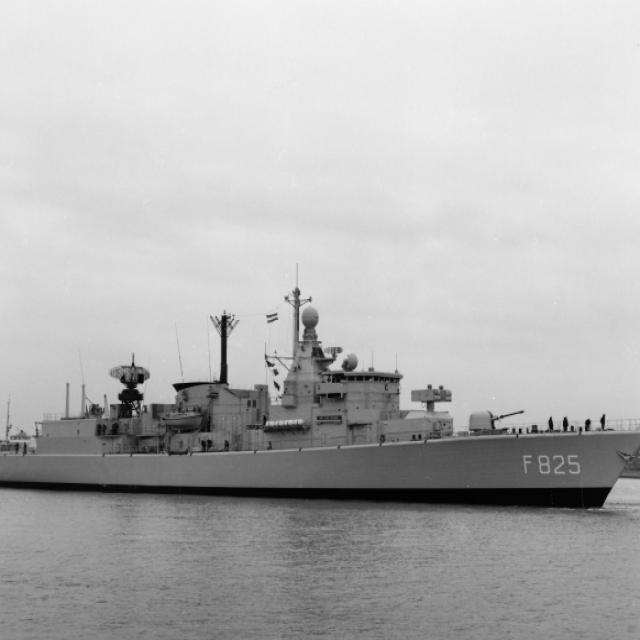Fragata: (1, 262, 640, 518)
